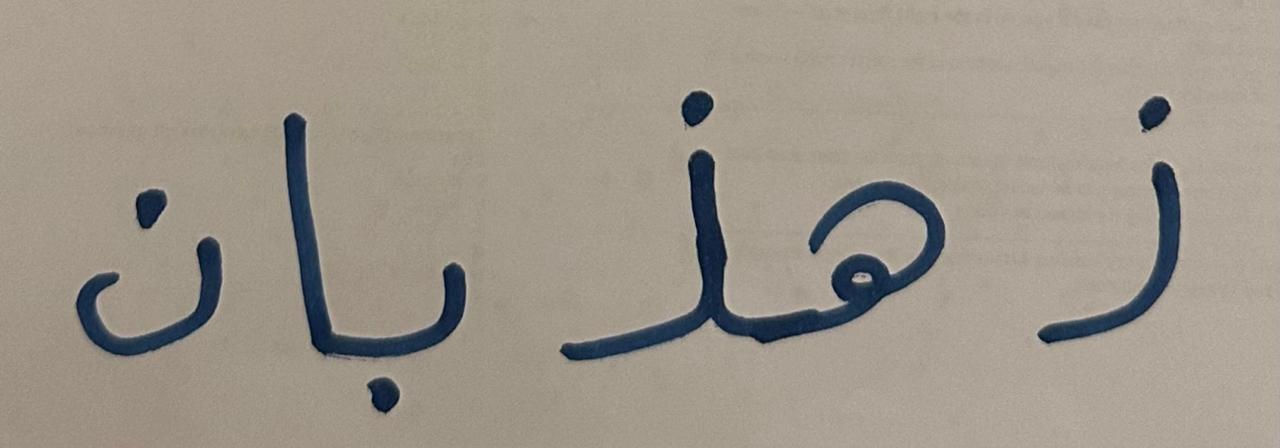ain: (978, 48, 1243, 379), (514, 49, 743, 392)
alef: (262, 91, 340, 410)
beh: (344, 160, 509, 435)
jeem: (747, 100, 973, 370)
qaf: (45, 133, 257, 403)
